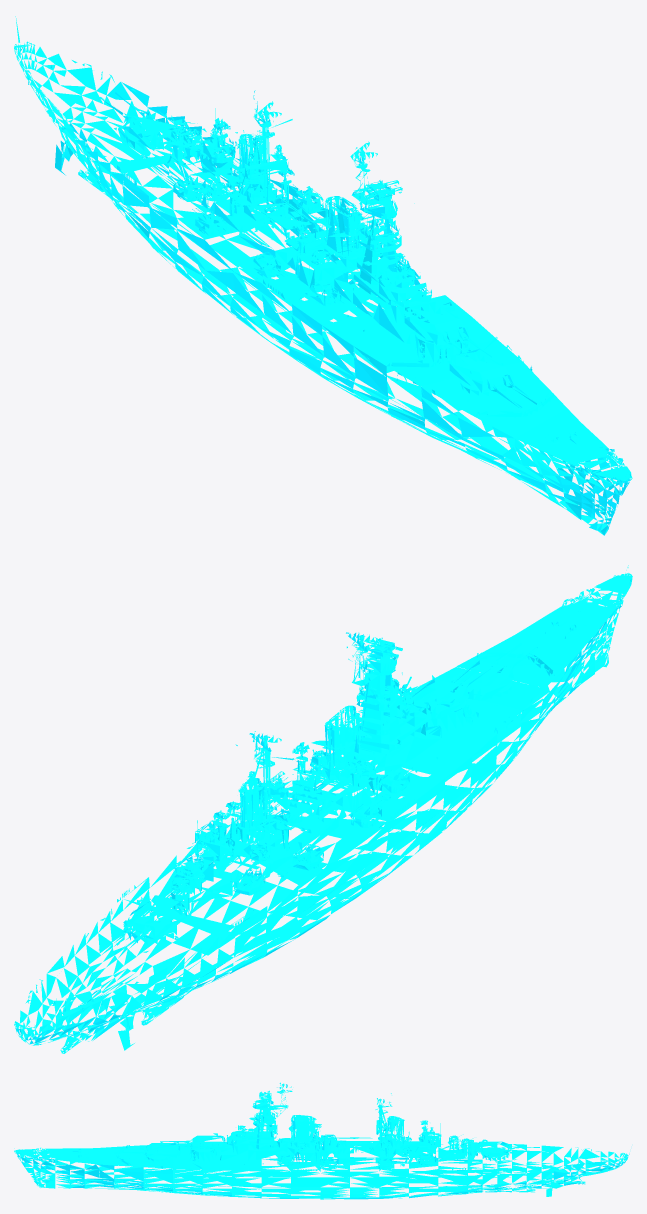
The model's file is PRSC710.glb.
3 renders of one model, top to bottom at view 1: azimuth 30°, elevation 25°; view 2: azimuth 150°, elevation 25°; view 3: azimuth 270°, elevation 25°, orthographic. The views are drawn at different scales.
Parts seen in each view (by area): view 1: hull_mid, hull_bow, hull_stern, main_battery, secondary_battery, superstructure, aa_mount; view 2: hull_mid, hull_stern, hull_bow, main_battery, secondary_battery, superstructure, aa_mount; view 3: hull_mid, hull_stern, hull_bow, main_battery, secondary_battery, superstructure, aa_mount.
Part boxes in pixels (x1,y1,x2,y2): hull_mid: (114, 90, 544, 459); hull_bow: (456, 385, 632, 535); hull_stern: (14, 16, 235, 224); main_battery: (99, 92, 538, 408); secondary_battery: (171, 159, 400, 305); superstructure: (210, 101, 411, 278); aa_mount: (171, 115, 363, 267); hull_mid: (117, 646, 544, 978); hull_stern: (14, 899, 235, 1053); hull_bow: (456, 565, 632, 741); main_battery: (99, 643, 537, 954); secondary_battery: (170, 751, 413, 895); superstructure: (209, 632, 412, 843); aa_mount: (171, 749, 384, 894); hull_mid: (143, 1089, 476, 1199); hull_stern: (467, 1142, 629, 1196); hull_bow: (14, 1145, 143, 1190); main_battery: (114, 1133, 539, 1159); secondary_battery: (269, 1134, 442, 1170); superstructure: (238, 1082, 433, 1145); aa_mount: (298, 1131, 473, 1156).
Size of the model in its own units: 2.09 by 3.19 by 16.8.
